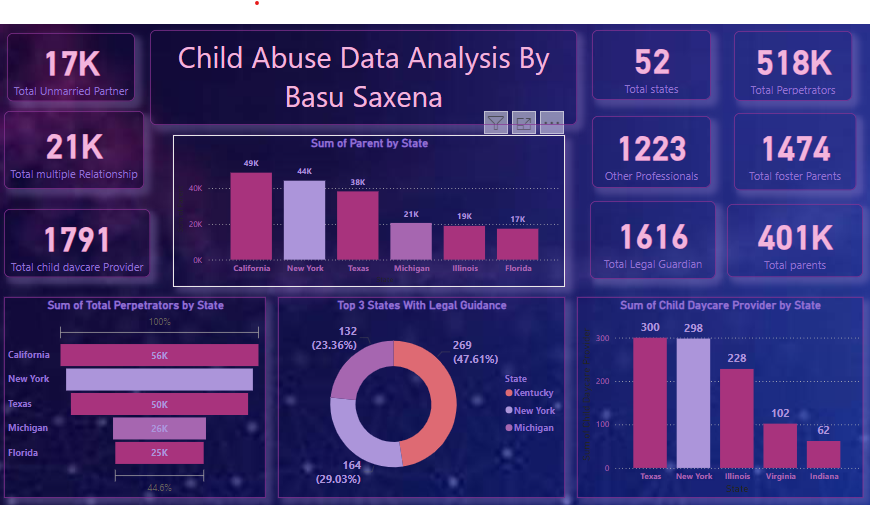

What the dashboard file says about the page in this screenshot:
{"tool":"powerbi","page":{"name":"Page 1","canvas":[1280,720],"ordinal":0},"visuals":[{"type":"clusteredColumnChart","fields":{"Category":["Child Abuse - Sheet1.State"],"Y":["Child Abuse - Sheet1.Parent"]},"box":[257.6,169.8,573.7,222.4],"z":0},{"type":"donutChart","title":"Top 3 States With Legal Guidance","fields":{"Category":["Child Abuse - Sheet1.State"],"Y":["Child Abuse - Sheet1.Legal Guardian"]},"box":[411.2,406.8,420,294.1],"z":1},{"type":"funnel","fields":{"Category":["Child Abuse - Sheet1.State"],"Y":["Child Abuse - Sheet1.Total Perpetrators"]},"box":[10.2,406.8,383.4,294.1],"z":2},{"type":"columnChart","fields":{"Category":["Child Abuse - Sheet1.State"],"Y":["Child Abuse - Sheet1.Child Daycare Provider"]},"box":[848.8,420,418.5,289.8],"z":3},{"type":"card","fields":{"Values":["All Measures.Other Professionals"]},"box":[860.5,272.2,174.1,105.4],"z":4},{"type":"card","fields":{"Values":["All Measures.Total child daycare Provider"]},"box":[10.2,278,213.7,99.5],"z":5},{"type":"card","fields":{"Values":["All Measures.Total Unmarried Partner"]},"box":[14.6,30.7,187.3,99.5],"z":6},{"type":"card","fields":{"Values":["All Measures.Total multiple Relationship"]},"box":[10.2,155.1,204.9,101],"z":7},{"type":"card","fields":{"Values":["All Measures.Total Perpetrators"]},"box":[1084.4,17.6,172.7,102.4],"z":8},{"type":"card","fields":{"Values":["All Measures.Total Legal Guardian"]},"box":[860.5,137.6,184.4,114.1],"z":9},{"type":"card","fields":{"Values":["All Measures.Total states"]},"box":[864.9,16.1,180,102.4],"z":10},{"type":"card","fields":{"Values":["All Measures.Total foster Parents"]},"box":[1078.5,137.6,178.5,112.7],"z":11},{"type":"card","fields":{"Values":["All Measures.Total parents"]},"box":[1068.3,270.7,199,106.8],"z":12},{"type":"textbox","box":[223.9,16.1,624.9,139],"z":13}]}

Visuals, with their boxes on the page's 1280x720 design canvas (x1, y1, x2, y2). These are canvas units, not pixel positions in the 870x505 screenshot, which may show the page scaled, cropped or inside an application window:
clusteredColumnChart - Child Abuse - Sheet1.State x Child Abuse - Sheet1.Parent: 258,170,831,392
"Top 3 States With Legal Guidance" donutChart: 411,407,831,701
funnel - Child Abuse - Sheet1.State x Child Abuse - Sheet1.Total Perpetrators: 10,407,394,701
columnChart - Child Abuse - Sheet1.State x Child Abuse - Sheet1.Child Daycare Provider: 849,420,1267,710
card - All Measures.Other Professionals: 860,272,1035,378
card - All Measures.Total child daycare Provider: 10,278,224,378
card - All Measures.Total Unmarried Partner: 15,31,202,130
card - All Measures.Total multiple Relationship: 10,155,215,256
card - All Measures.Total Perpetrators: 1084,18,1257,120
card - All Measures.Total Legal Guardian: 860,138,1045,252
card - All Measures.Total states: 865,16,1045,118
card - All Measures.Total foster Parents: 1078,138,1257,250
card - All Measures.Total parents: 1068,271,1267,378
textbox: 224,16,849,155
